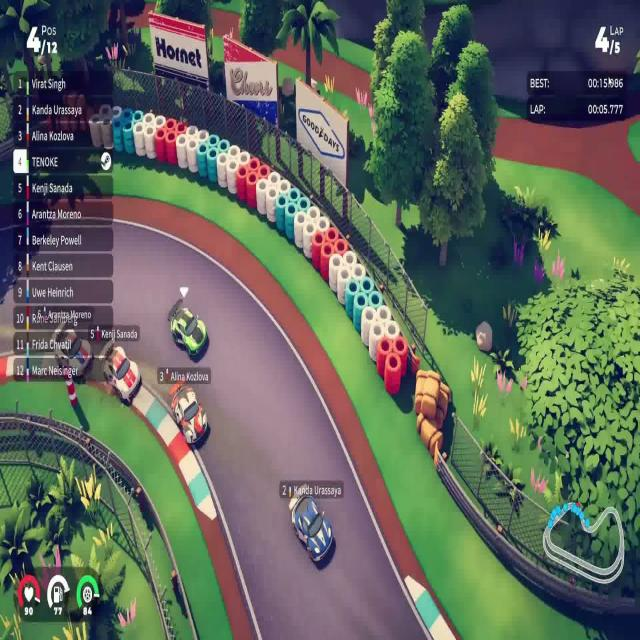car: (288, 489, 333, 563), (169, 382, 208, 446), (102, 344, 142, 406), (168, 302, 208, 358)
